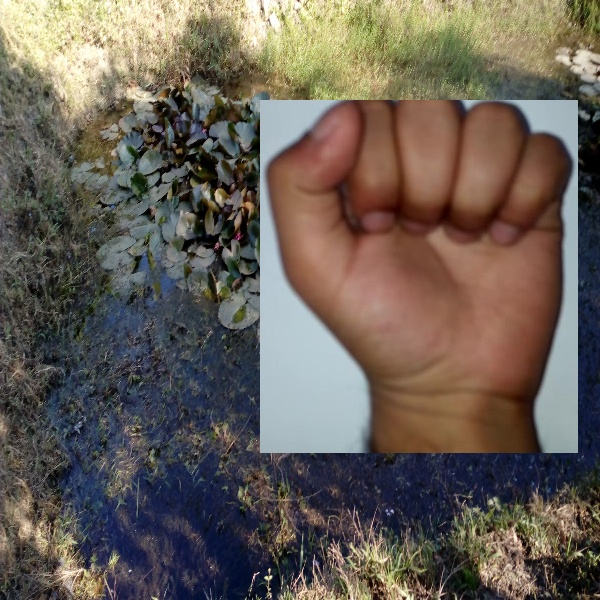A: (260, 100, 578, 453)
